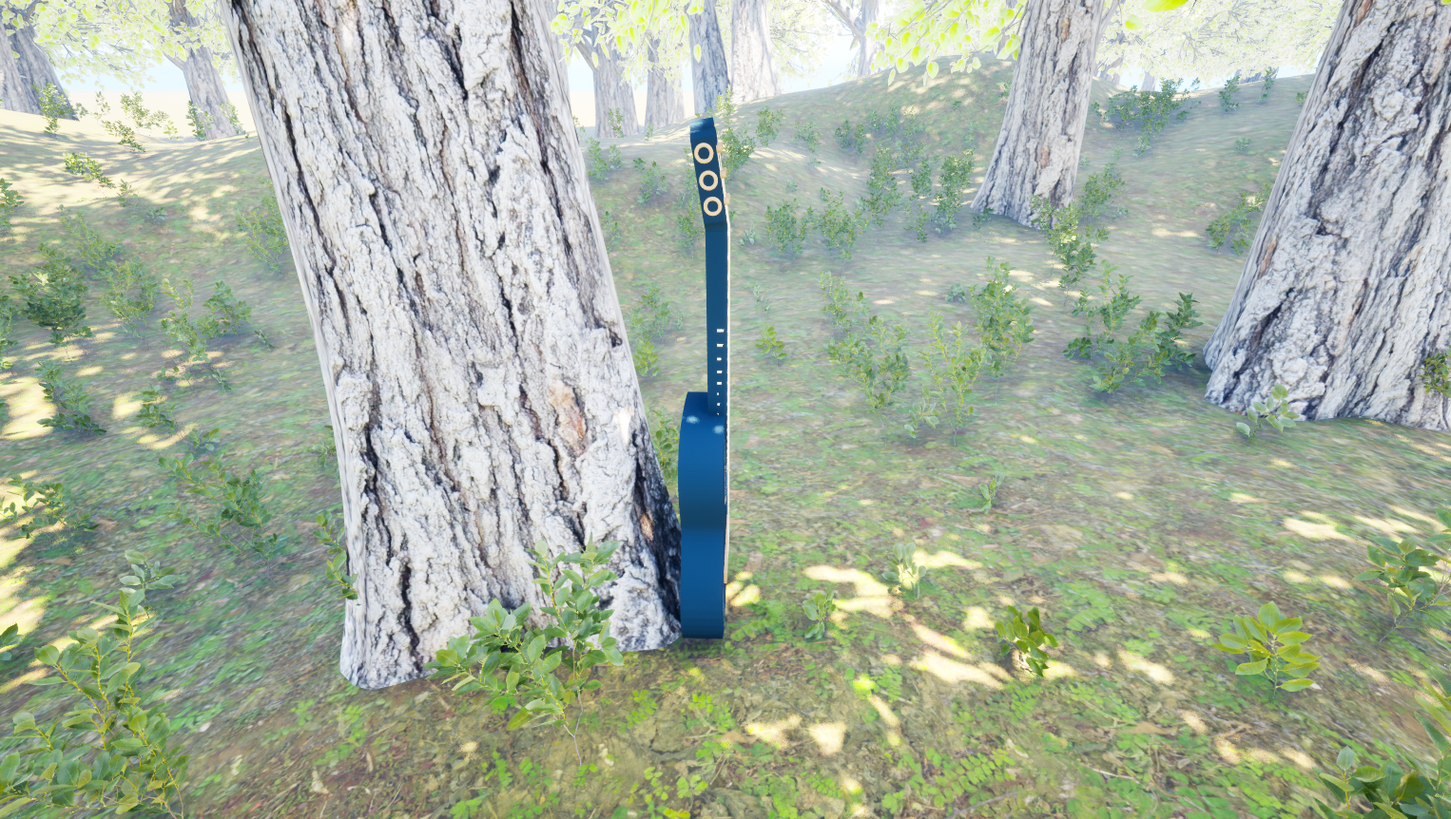Guitar: (657, 112, 733, 671)
